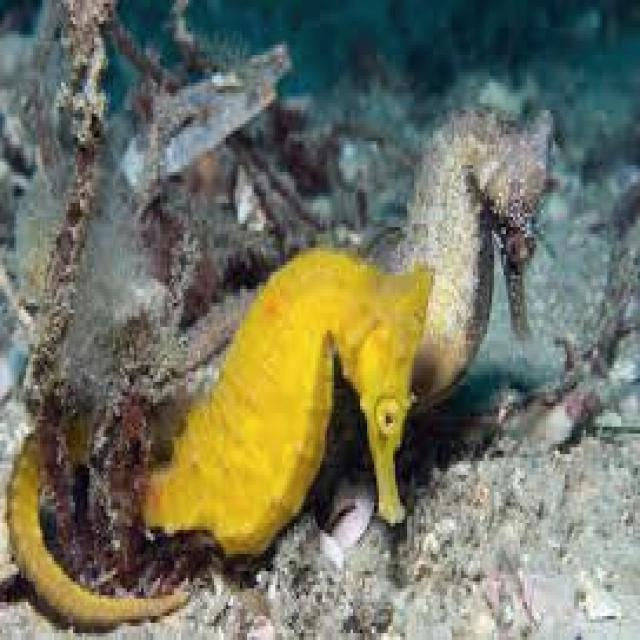seahorse: (144, 248, 431, 551), (386, 110, 555, 399)
